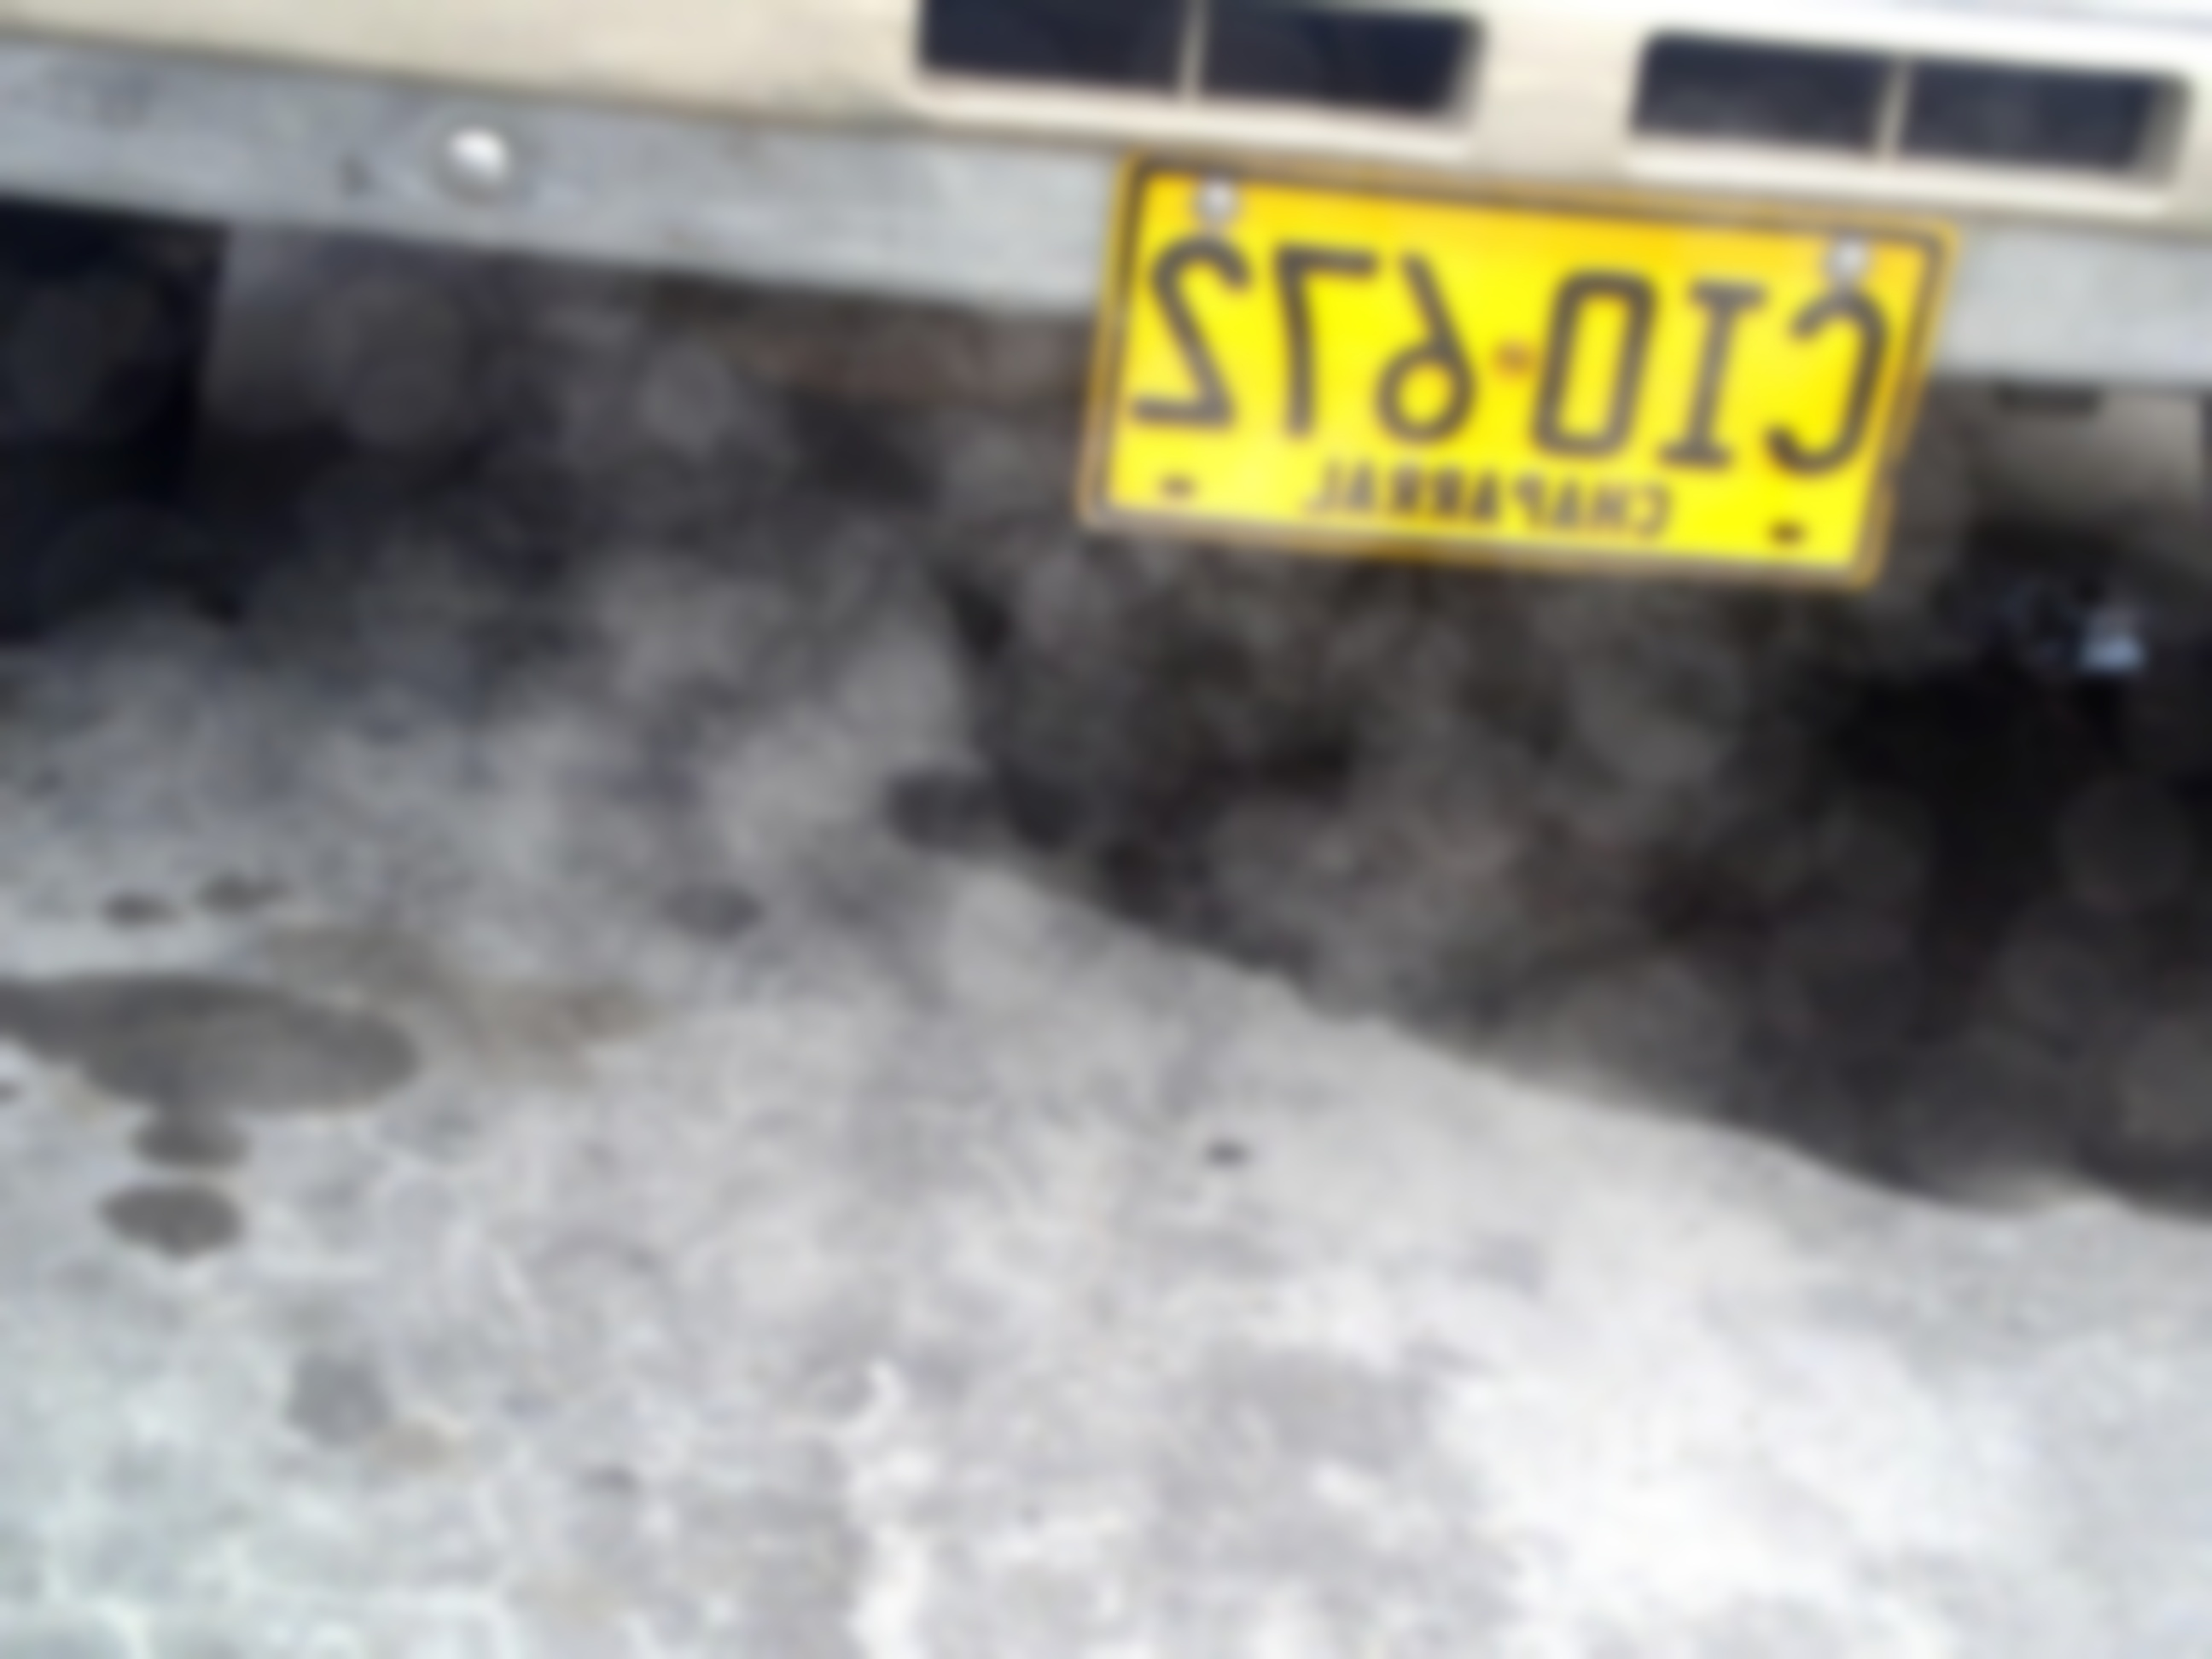placas: (1069, 141, 1961, 596)
